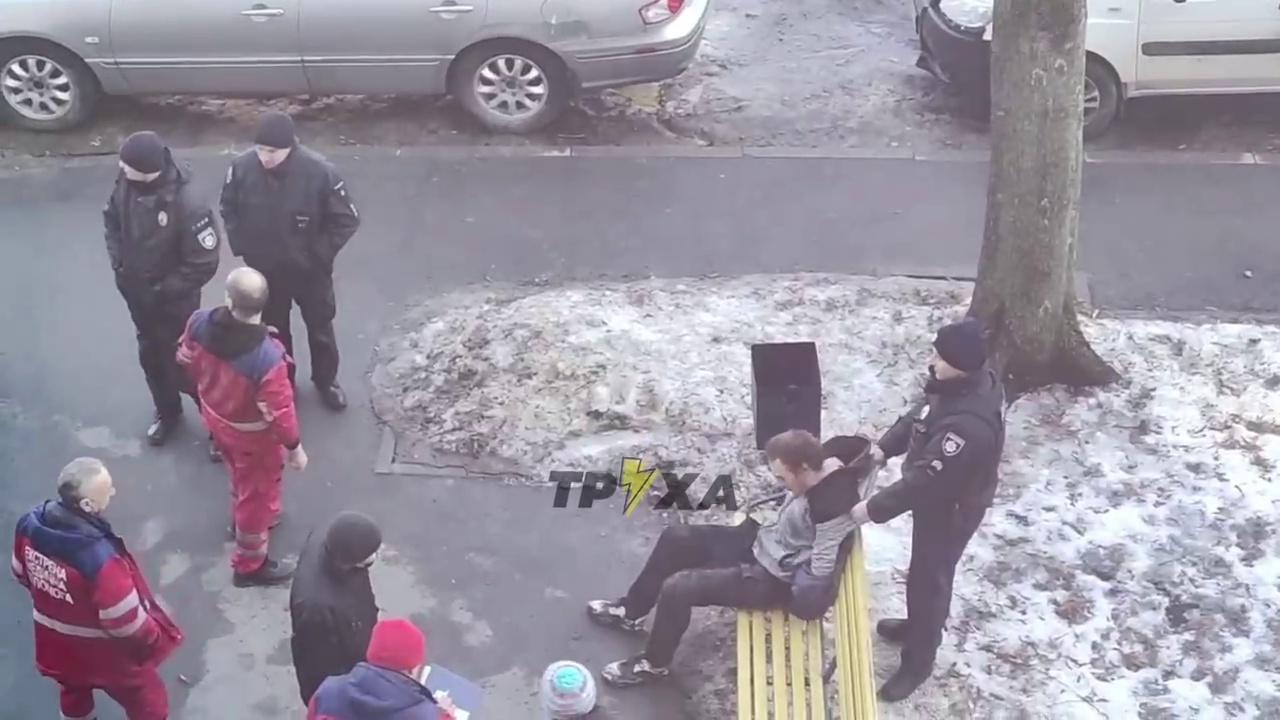person: (563, 422, 843, 690), (852, 319, 1006, 706), (174, 266, 310, 610), (9, 460, 184, 720), (216, 113, 362, 413), (101, 129, 222, 446), (290, 511, 382, 708)
